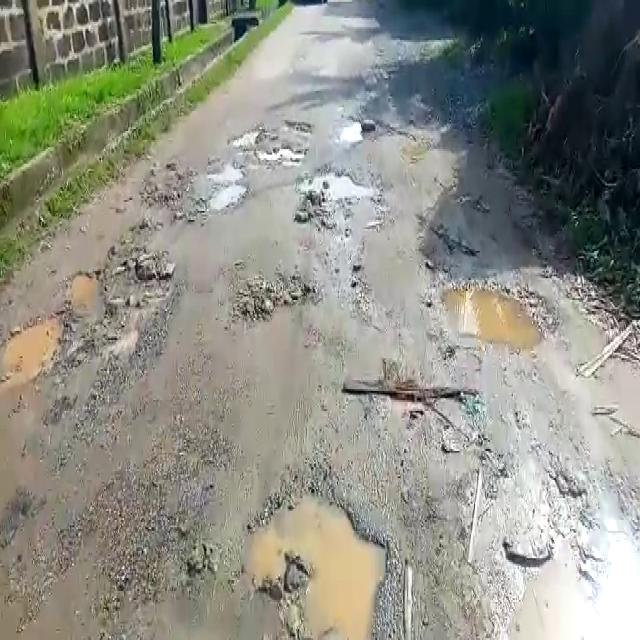Pothole: (229, 471, 402, 640), (69, 250, 174, 318), (436, 284, 544, 346), (0, 306, 67, 387), (294, 165, 378, 202), (230, 127, 304, 166), (203, 168, 248, 208), (341, 118, 364, 144)
